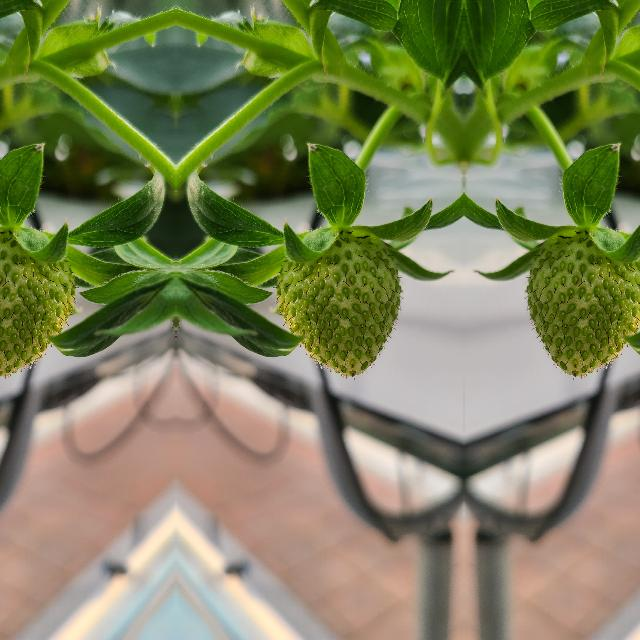Health_25: (272, 234, 402, 380), (523, 234, 640, 380), (0, 234, 78, 380)
